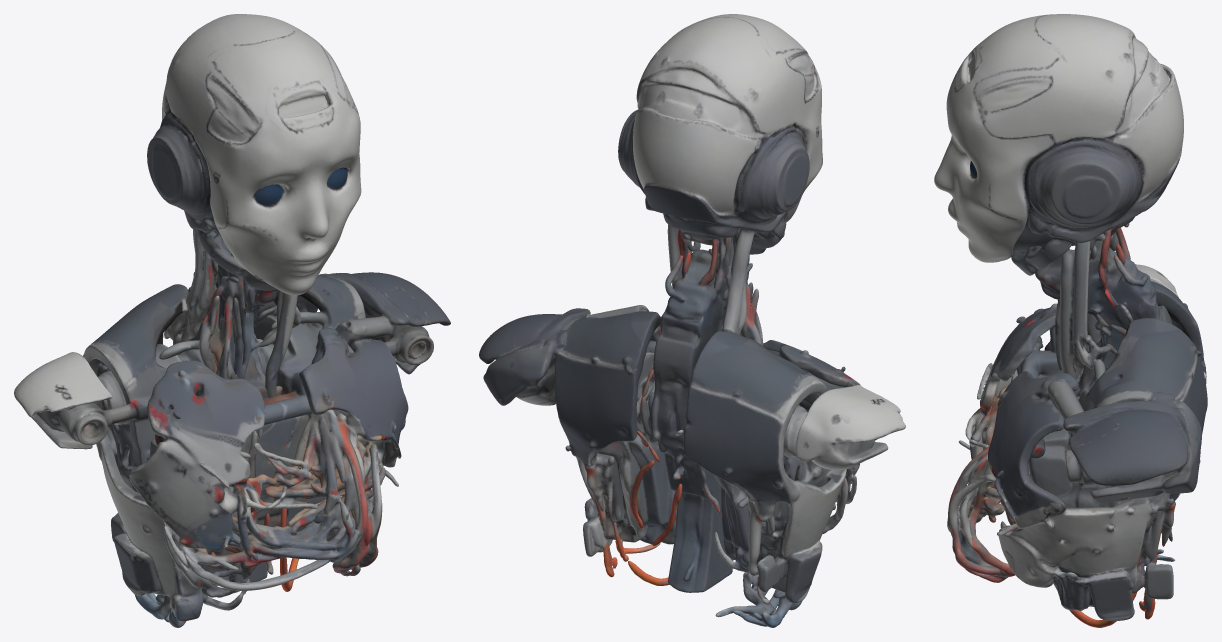
File: airobot.glb
The picture shows the model from 3 angles, left to right: view 1: azimuth 30°, elevation 25°; view 2: azimuth 150°, elevation 25°; view 3: azimuth 270°, elevation 25°; orthographic projection. The views are drawn at different scales.
Parts seen in each view (by area): view 1: tripo_node_e36a9542-8d10-4622-83ec-e3d15d999753; view 2: tripo_node_e36a9542-8d10-4622-83ec-e3d15d999753; view 3: tripo_node_e36a9542-8d10-4622-83ec-e3d15d999753.
Boxes of the visible parts, x1=… form: tripo_node_e36a9542-8d10-4622-83ec-e3d15d999753: x1=14, y1=14, x2=450, y2=627; tripo_node_e36a9542-8d10-4622-83ec-e3d15d999753: x1=479, y1=14, x2=905, y2=627; tripo_node_e36a9542-8d10-4622-83ec-e3d15d999753: x1=934, y1=14, x2=1207, y2=627.
Size of the model in its own units: 0.7415 by 1 by 0.4217.
Materials: 1 (1 with a texture image).
